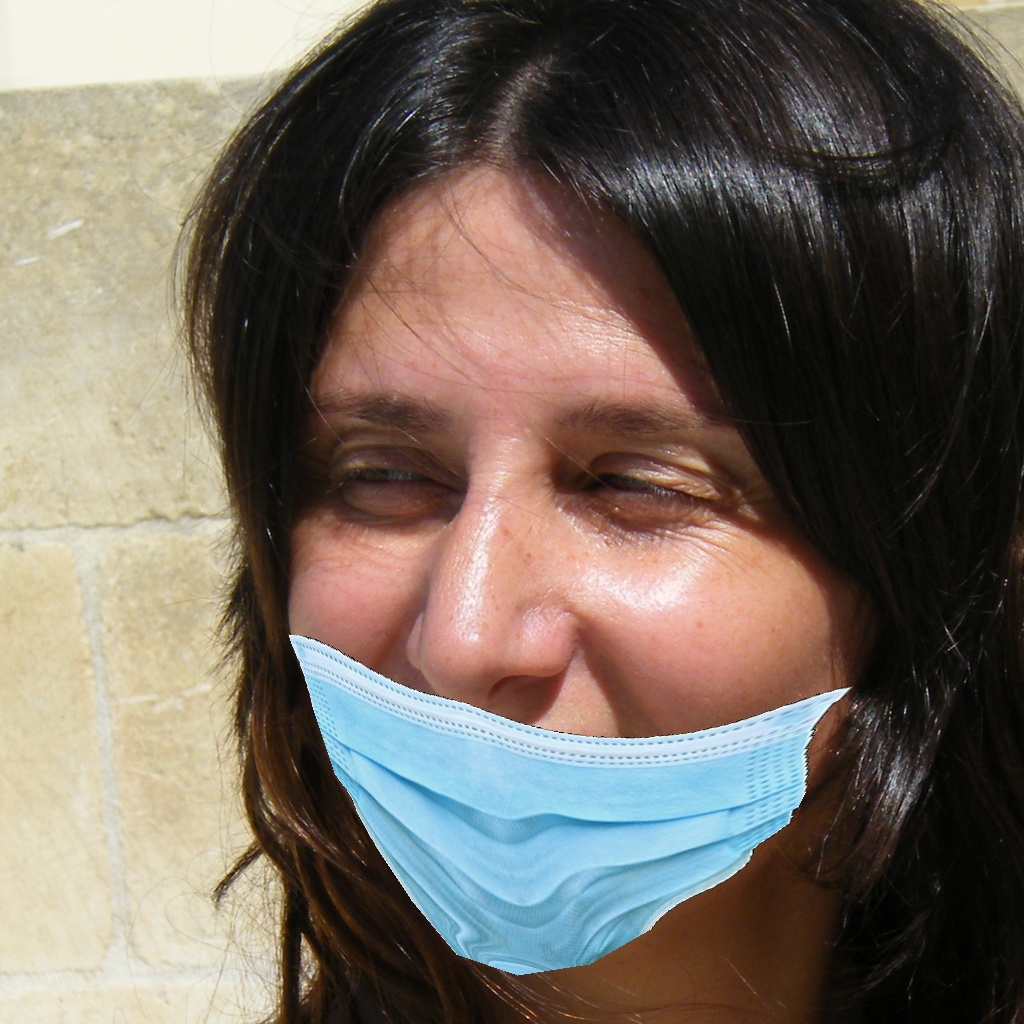mascarilla_mal_puesta: (302, 378, 819, 935)
